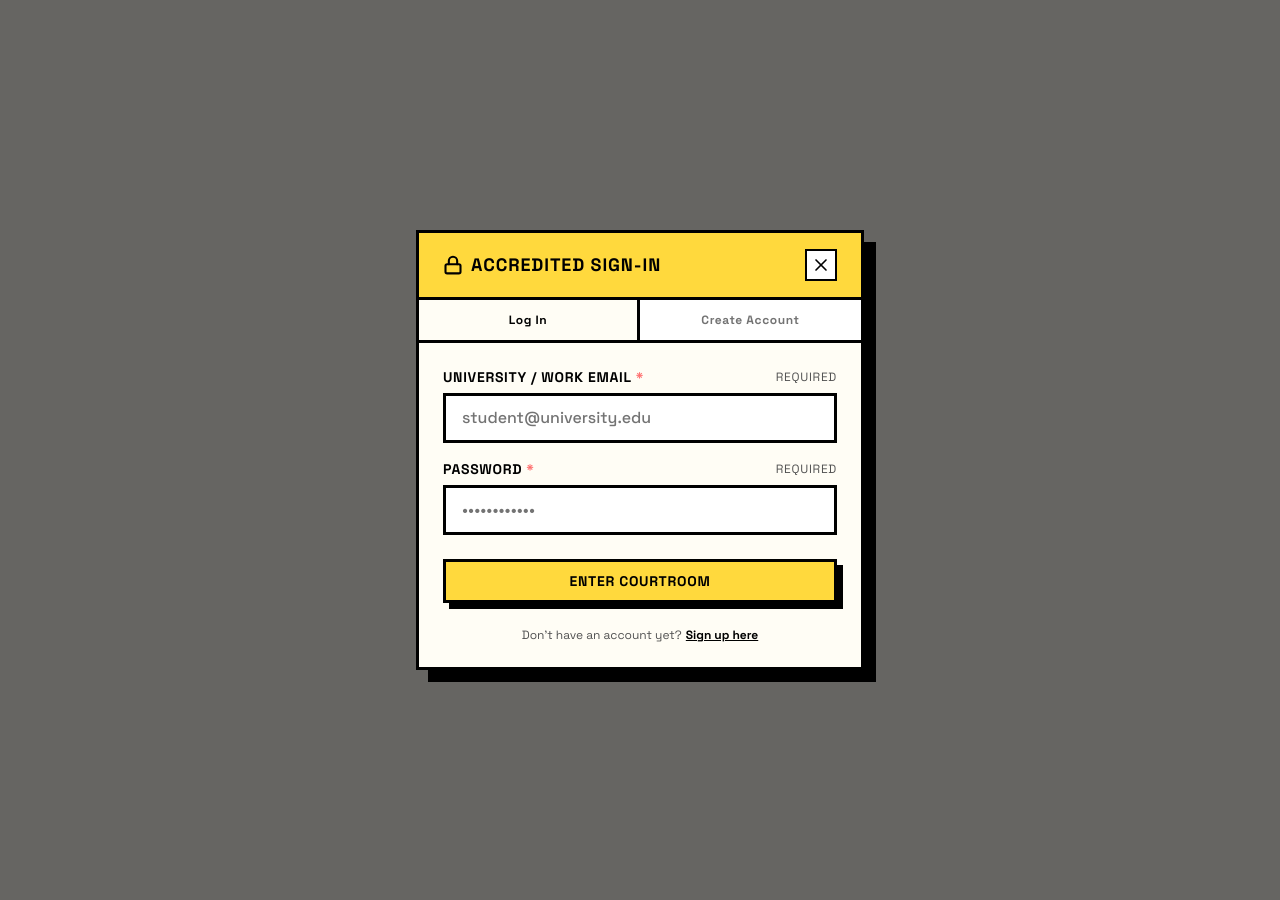
Phase 2: Authentication and Teams UI Components › <AuthModal /> › displays error banner when submission fails
Type "bad@test.edu" into the field labelled "University / Work Email* Required" at (640, 418), box [443,393,837,443]
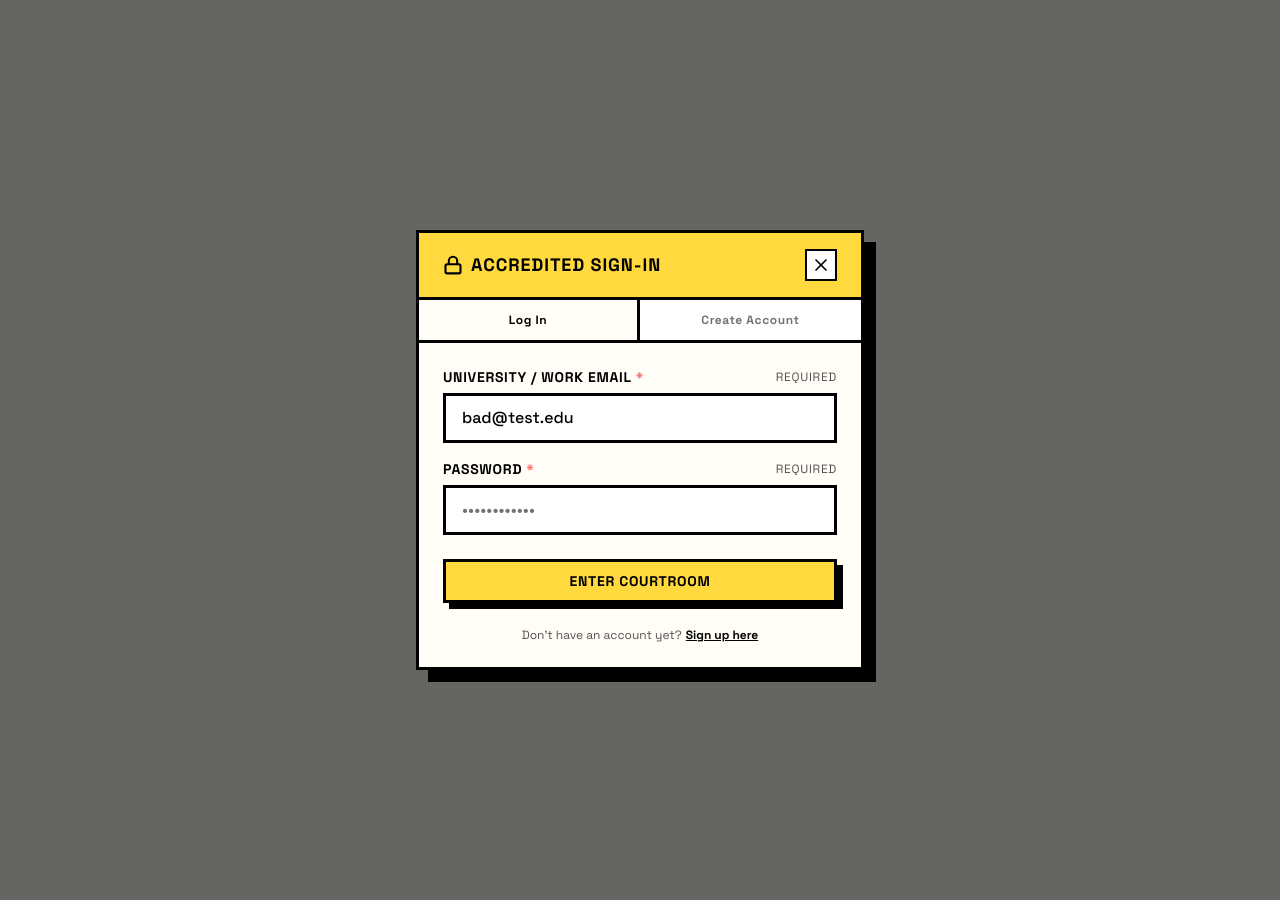
Type "wrongpass" into the password field labelled "Password* Required" at (640, 510), box [443,485,837,535]
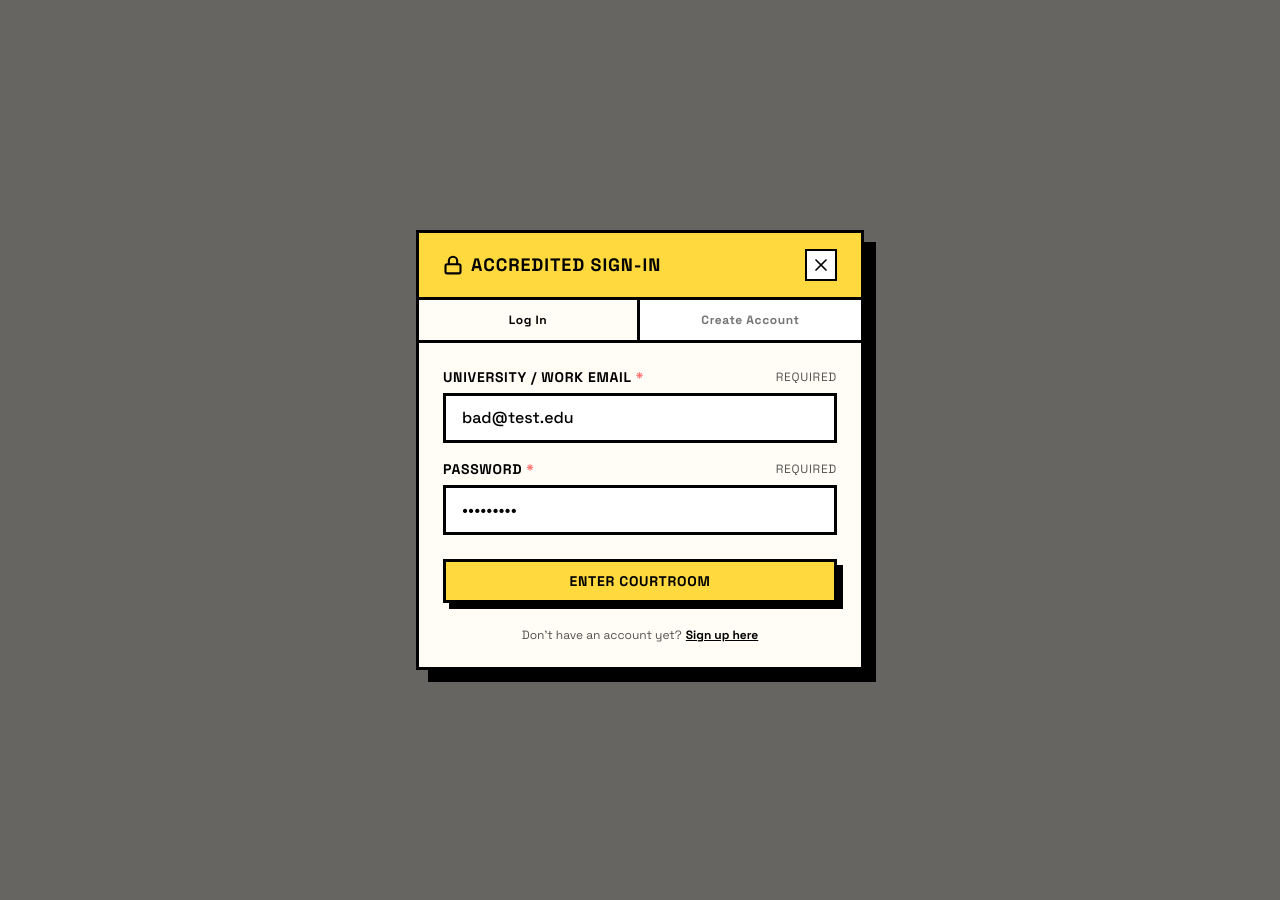
Click the button "Enter Courtroom" at (640, 581), box [443,559,837,603]
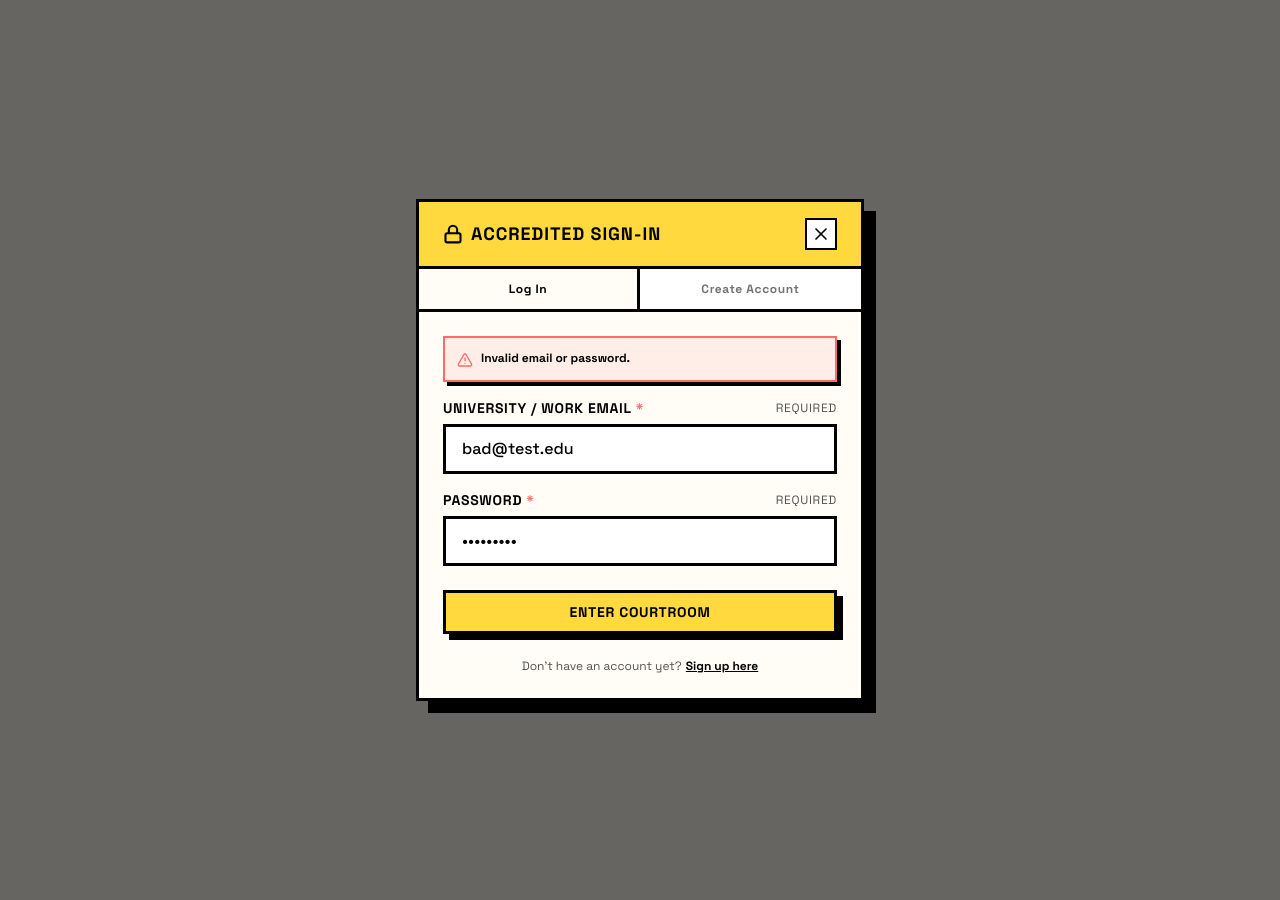
Check: the text "Invalid email or password." is shown, box [481,350,630,366]
